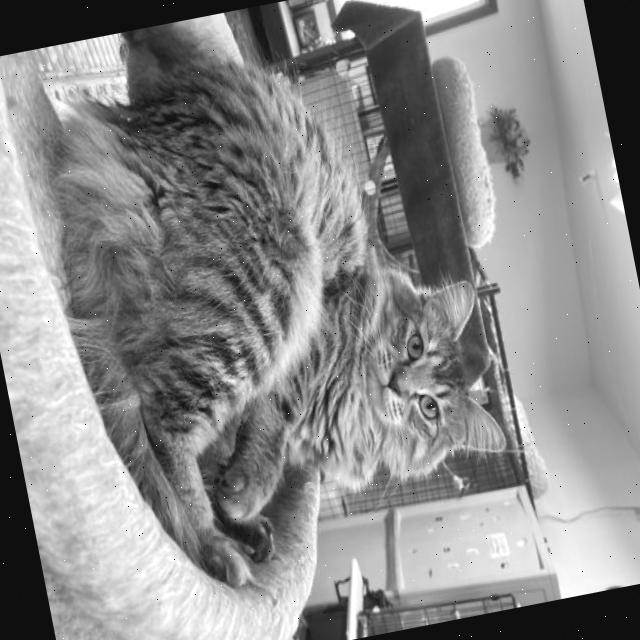domestic_long_hair_cat: (314, 250, 527, 508)
